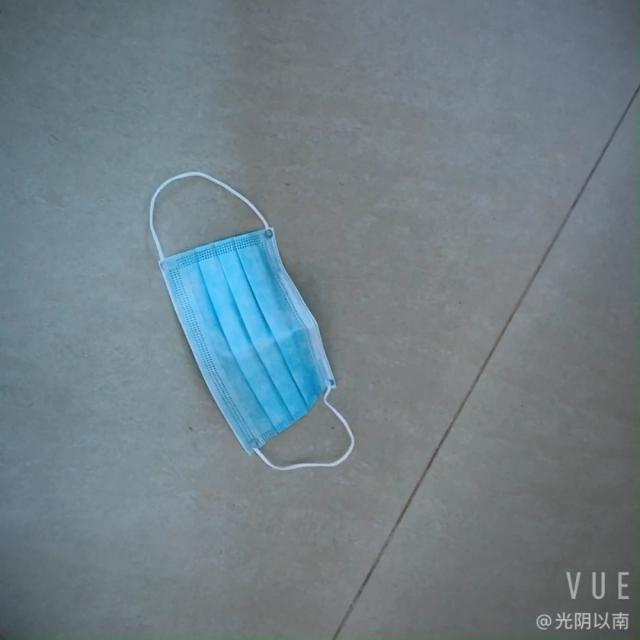non-organic waste: (149, 206, 329, 465)
